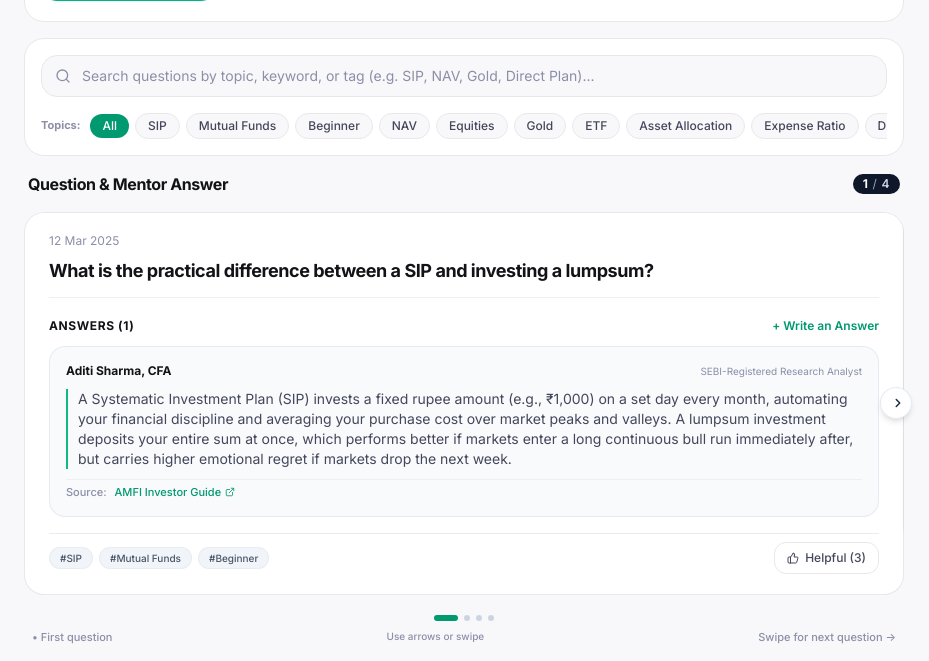
Test case: LearnPage Q&A Discussions › renders swipeable Q&A carousel with single question at a time and directional arrows
(page scrolled)
Expected: the heading "What is the practical difference between a SIP and investing a lumpsum" is shown, top-left (49, 260), bottom-right (654, 280)
Expected: the text "1" is shown, top-left (863, 176), bottom-right (868, 192)
What coordinates should you click on to do the following:
click the button named "next question"
I would click on:
 (896, 403)
Its box is top-left (880, 387), bottom-right (912, 419).
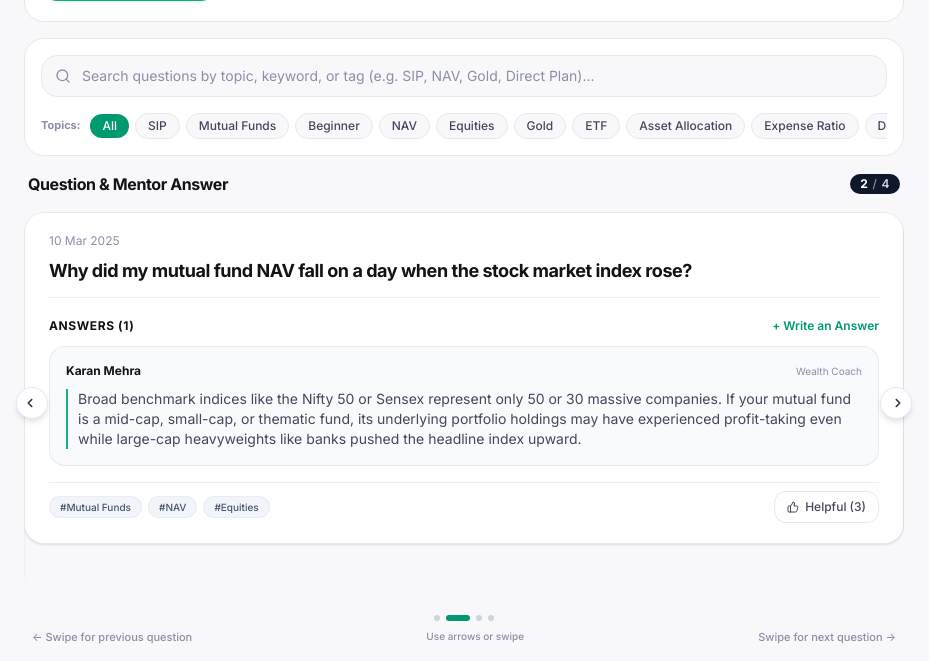
Result: the text "2" is shown at top-left (860, 176), bottom-right (868, 192)
Result: the button named "previous question" is shown at top-left (16, 387), bottom-right (48, 419)
What coordinates should you click on to do the following:
click the button named "next question"
I would click on:
 (896, 403)
Its box is top-left (880, 387), bottom-right (912, 419).
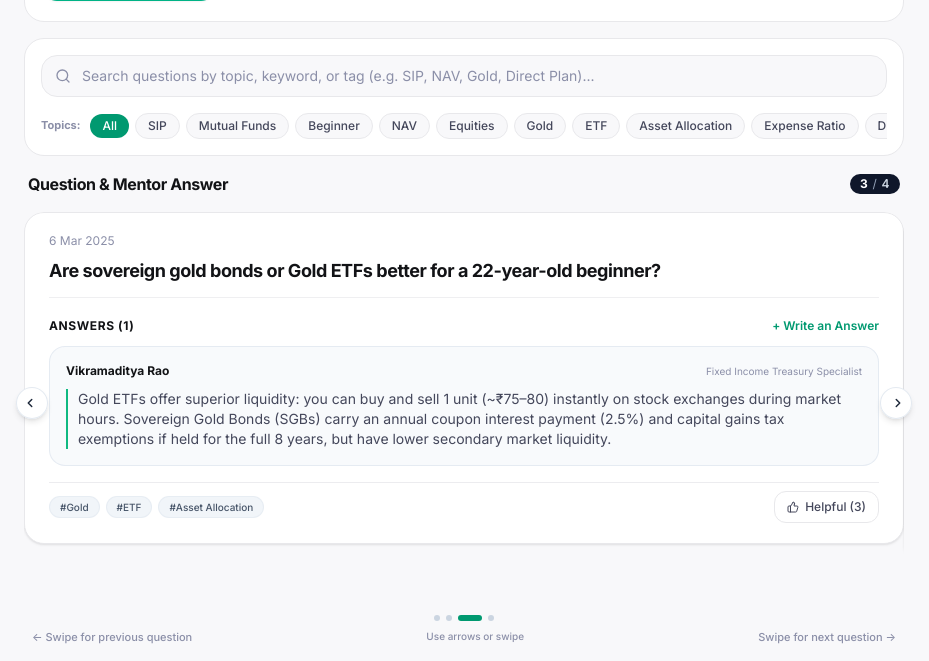
What coordinates should you click on to do the following:
click the button named "next question"
I would click on:
 (896, 403)
Its box is top-left (880, 387), bottom-right (912, 419).
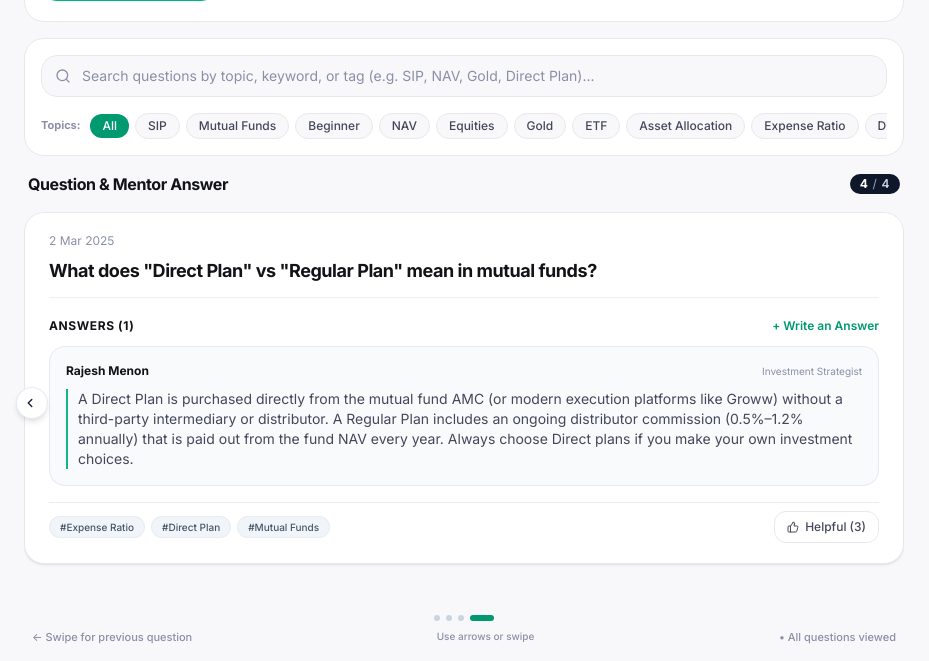
Result: the button named "previous question" is shown at top-left (16, 387), bottom-right (48, 419)
Result: the text "next question" is gone
